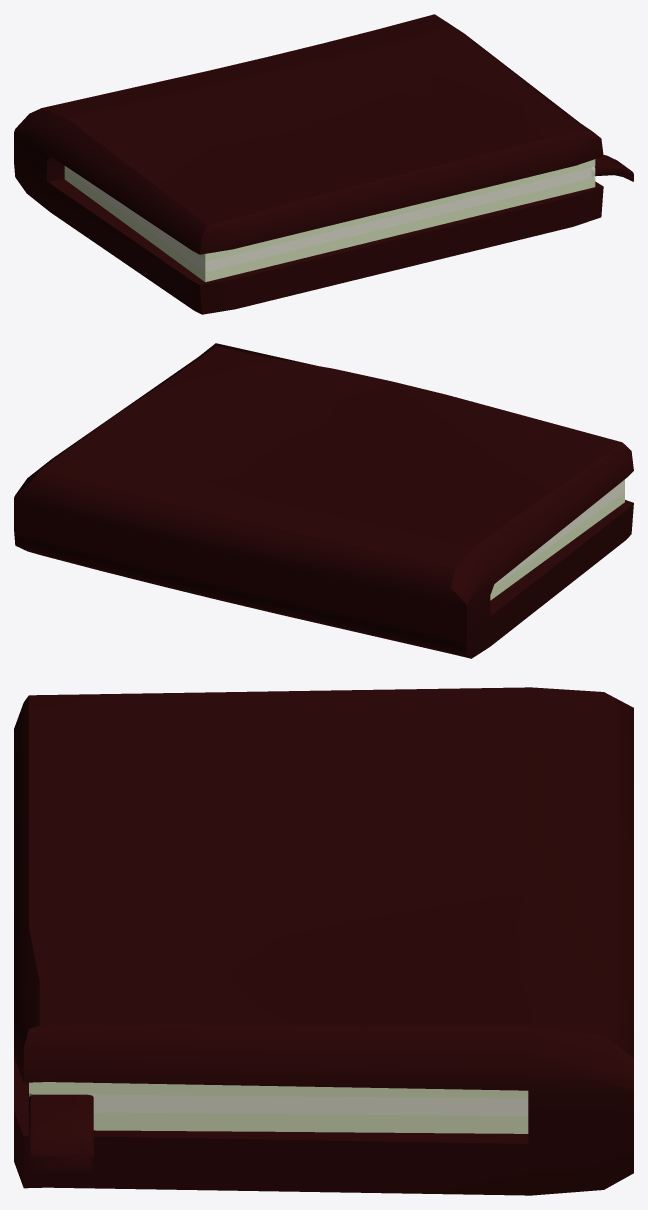
Rendered from book.fbx.
The picture shows the model from 3 angles, top to bottom: view 1: azimuth 30°, elevation 25°; view 2: azimuth 150°, elevation 25°; view 3: azimuth 270°, elevation 25°; orthographic projection. The views are drawn at different scales.
Visible parts, largest first — view 1: Cube; view 2: Cube; view 3: Cube.
Part boxes in pixels (x1,y1,x2,y2): Cube: (14,14,633,314); Cube: (14,343,633,658); Cube: (14,687,633,1195).
Bounding box in the file's own units: 193 × 38.46 × 130.
